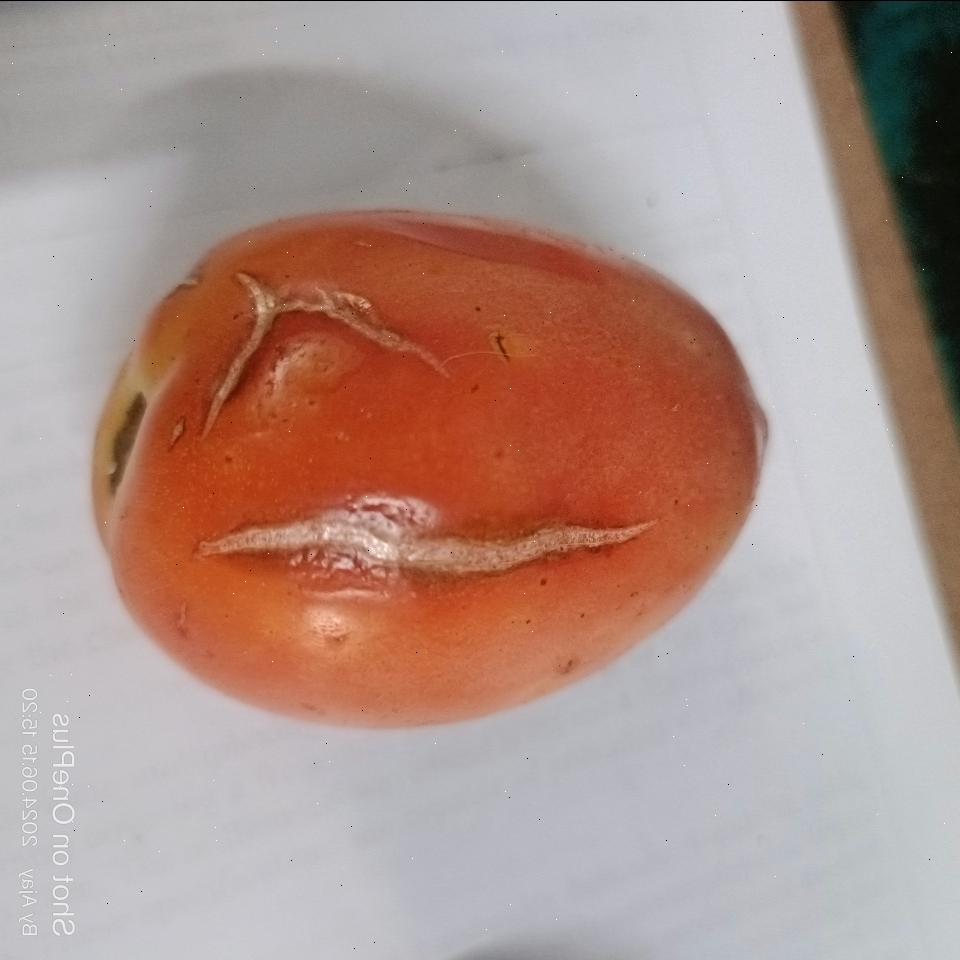Cracking: (185, 477, 662, 573), (205, 270, 443, 428)
